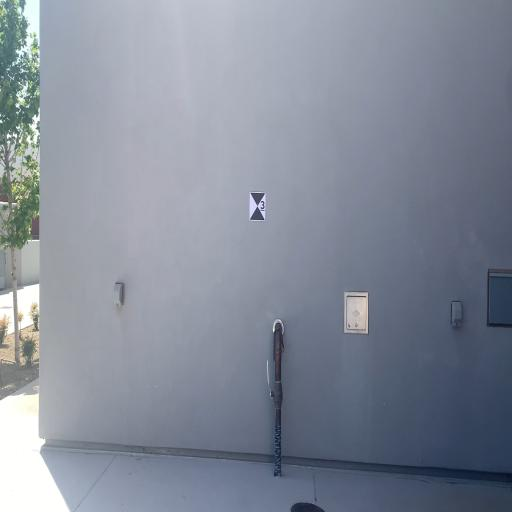target3: (249, 192, 266, 222)
